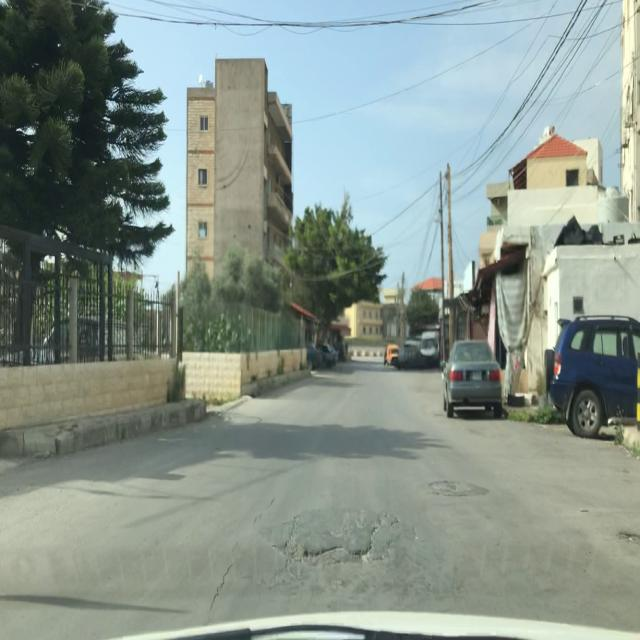Pothole: (292, 533, 390, 570), (618, 526, 640, 543)
